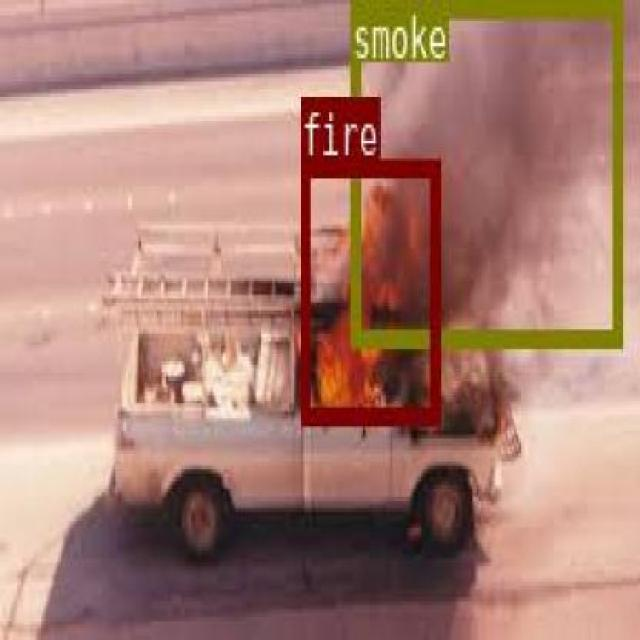Fire: (298, 158, 437, 422)
Smoke: (349, 0, 620, 342)
